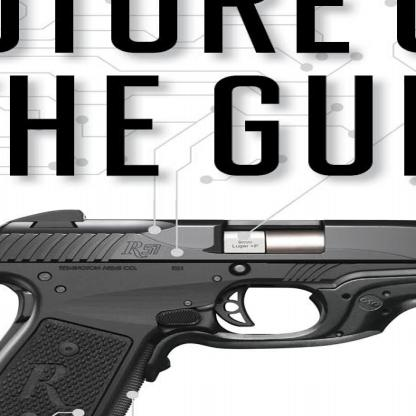gun: (0, 209, 415, 416)
